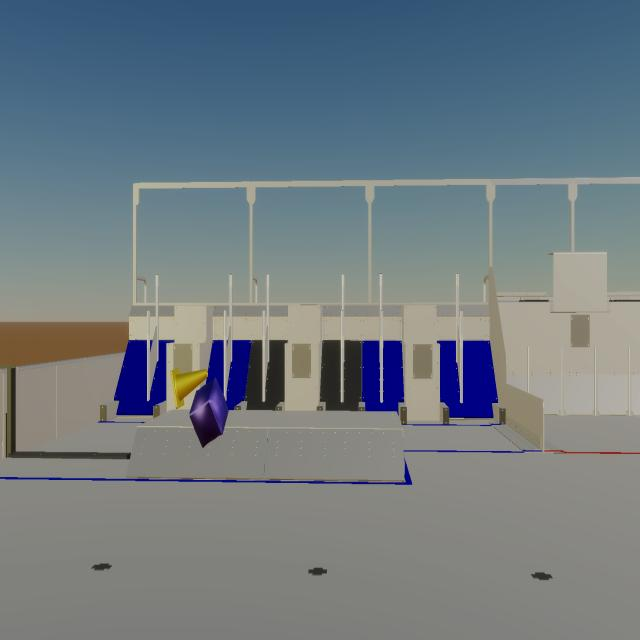frc_cone: (170, 368, 208, 409)
frc_cube: (189, 377, 229, 448)
